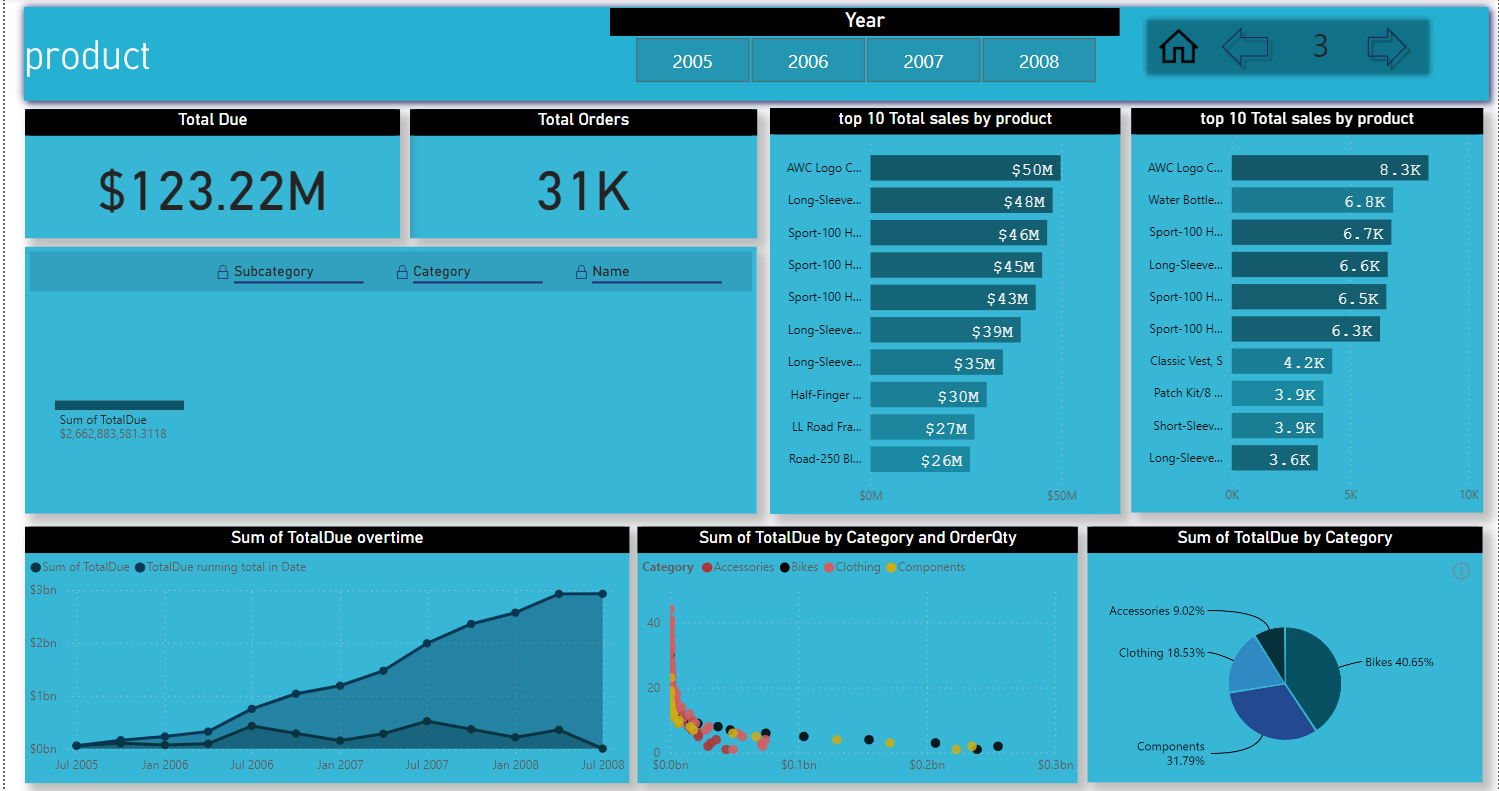

The dashboard page shown, as its layout file describes it:
{"tool":"powerbi","page":{"name":"Product","canvas":[1500,800],"ordinal":3},"visuals":[{"type":"shape","box":[10.3,0,1489.7,111.7],"z":0},{"type":"shape","box":[1141.1,16.3,295.5,66.7],"z":1000},{"type":"image","box":[1141.1,23.1,74.9,53.1],"z":2000},{"type":"textbox","box":[1308.6,20.4,39.5,59.9],"z":3000},{"type":"shape","box":[1363,23.1,51.7,53.1],"z":4000},{"type":"shape","box":[1216,23.1,59.9,53.1],"z":5000},{"type":"card","title":"Total Orders","fields":{"Values":["Measure.Total Orders"]},"box":[407.1,111.7,348.6,129.4],"z":6000},{"type":"card","title":"Total Due","fields":{"Values":["Measure.Total Due"]},"box":[20.4,111.7,377.2,129.4],"z":7000},{"type":"slicer","title":"Year","fields":{"Values":["Dimdate.Date.Variation.Date Hierarchy.Year"]},"box":[607.3,9.5,512,81.7],"z":8000},{"type":"areaChart","title":"Sum of TotalDue overtime","fields":{"Category":["Dimdate.Date.Variation.Date Hierarchy.Year","Dimdate.Date.Variation.Date Hierarchy.Quarter","Dimdate.Date.Variation.Date Hierarchy.Month"],"Y":["Sum(Fact Sales.TotalDue)","DIM CreditCard.TotalDue running total in Date"]},"box":[20.4,531,607.3,257.4],"z":9000},{"type":"scatterChart","fields":{"X":["Sum(Fact Sales.TotalDue)"],"Y":["Fact Sales.OrderQty"],"Series":["Dim Product.Category"]},"box":[635.9,531,442.5,257.4],"z":10000},{"type":"decompositionTreeVisual","fields":{"ExplainBy":["Dim Product.Subcategory","Dim Product.Category","Dim Product.Name"],"Analyze":["Sum(Fact Sales.TotalDue)"]},"box":[20.4,250.5,735.3,268.2],"z":11000},{"type":"ZoomChartsDrillDownPieProC062D62DA5CE45ECB95B7B1D0E5DA558","fields":{"Category":["Dim Product.Category"],"Values":["Sum(Fact Sales.TotalDue)"]},"box":[1087.7,531.8,396.9,257.1],"z":12000},{"type":"barChart","title":"top 10 Total sales by product","fields":{"Category":["Dim Product.Name"],"Y":["Sum(Fact Sales.TotalDue)"]},"box":[768,110.9,351.9,408.1],"z":13000},{"type":"barChart","title":"top 10 Total sales by product","fields":{"Category":["Dim Product.Name"],"Y":["Sum(Fact Sales.OrderQty)"]},"box":[1131.1,110.9,353.5,406.5],"z":14000}]}

Visuals, with their boxes in screenshot pixels (x1, y1, x2, y2), scaled from the page's 1500x800 canvas onto the 1499x791 screenshot:
shape: <region>10, 0, 1498, 110</region>
shape: <region>1140, 16, 1436, 82</region>
image: <region>1140, 23, 1215, 75</region>
textbox: <region>1308, 20, 1347, 79</region>
shape: <region>1362, 23, 1414, 75</region>
shape: <region>1215, 23, 1275, 75</region>
"Total Orders" card: <region>407, 110, 755, 238</region>
"Total Due" card: <region>20, 110, 397, 238</region>
"Year" slicer: <region>607, 9, 1119, 90</region>
"Sum of TotalDue overtime" areaChart: <region>20, 525, 627, 780</region>
scatterChart - Sum(Fact Sales.TotalDue) x Fact Sales.OrderQty: <region>635, 525, 1078, 780</region>
decompositionTreeVisual - Dim Product.Subcategory x Dim Product.Category: <region>20, 248, 755, 513</region>
ZoomChartsDrillDownPieProC062D62DA5CE45ECB95B7B1D0E5DA558 - Dim Product.Category x Sum(Fact Sales.TotalDue): <region>1087, 526, 1484, 780</region>
"top 10 Total sales by product" barChart: <region>767, 110, 1119, 513</region>
"top 10 Total sales by product" barChart: <region>1130, 110, 1484, 512</region>
